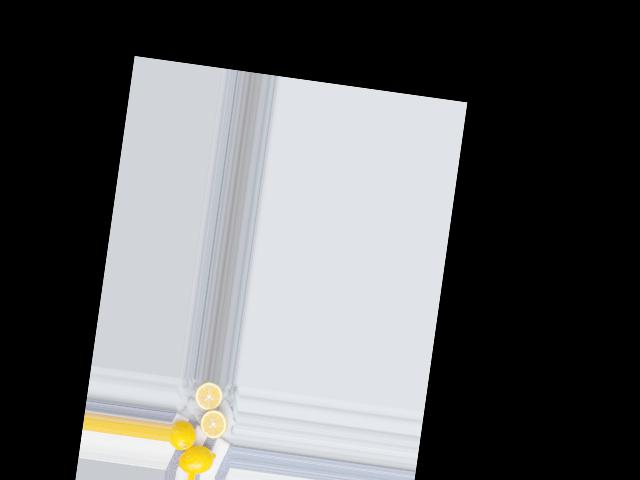lemon: (168, 422, 196, 451)
